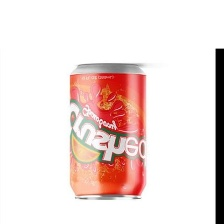can: (64, 58, 150, 204)
